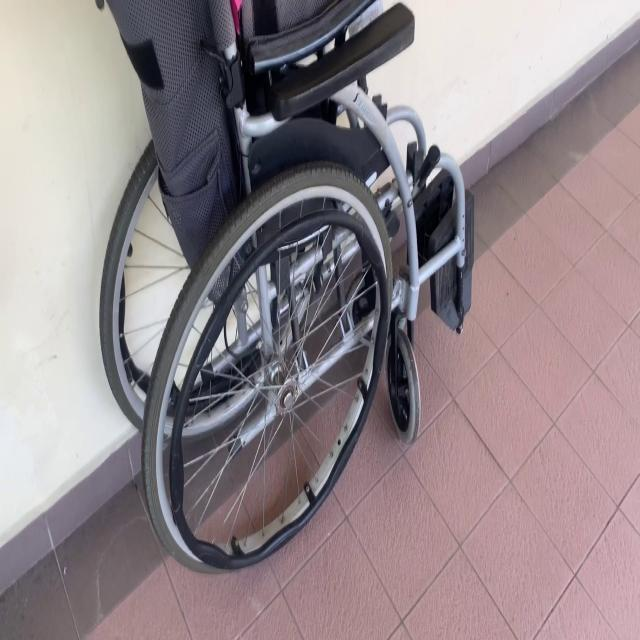wheelchair: (77, 0, 493, 599)
